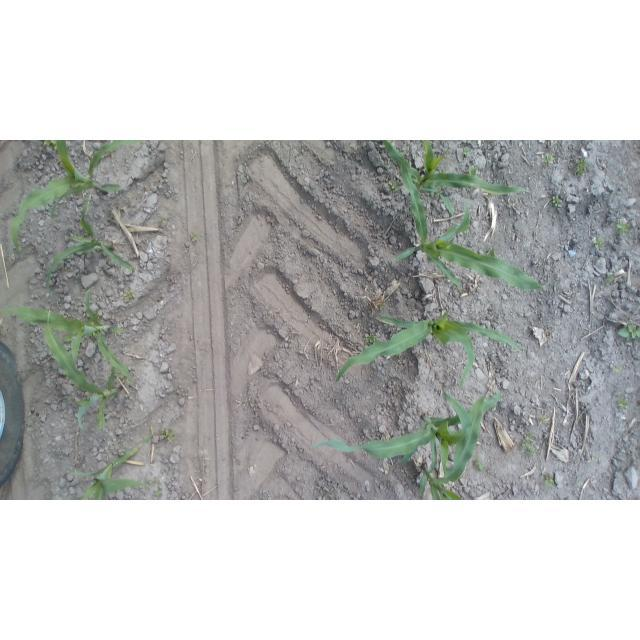Maize: (392, 146, 551, 293), (309, 388, 502, 477), (9, 141, 147, 252), (333, 309, 524, 387), (1, 289, 140, 387), (381, 140, 531, 216), (43, 305, 118, 429), (44, 198, 134, 288), (418, 396, 485, 501), (68, 432, 155, 500)
Weeds: (520, 434, 540, 457), (617, 324, 640, 341), (572, 156, 588, 176), (613, 220, 631, 236), (161, 427, 176, 441), (42, 141, 59, 152), (364, 333, 380, 344), (388, 180, 401, 192), (63, 331, 77, 342), (592, 236, 604, 248), (545, 474, 556, 487), (475, 458, 486, 470), (552, 195, 563, 207), (542, 154, 555, 164), (617, 398, 628, 408), (460, 146, 471, 156), (467, 166, 477, 177), (486, 247, 497, 257), (148, 477, 160, 485), (190, 232, 199, 242), (88, 318, 98, 327), (154, 487, 163, 497), (537, 416, 547, 425), (436, 187, 445, 197), (123, 290, 134, 298), (120, 374, 128, 385), (615, 365, 624, 374), (157, 214, 166, 222), (92, 311, 100, 320), (88, 331, 100, 337), (606, 274, 614, 282), (435, 169, 446, 174), (380, 304, 385, 310), (326, 487, 331, 493), (591, 456, 596, 460), (331, 494, 334, 500)
